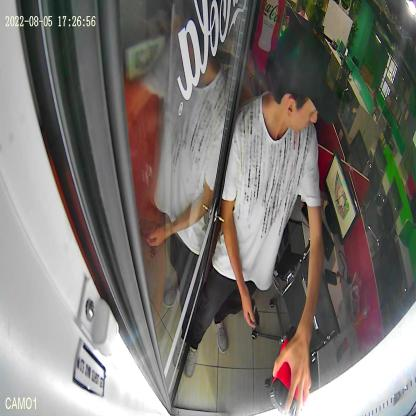red: (270, 324, 304, 416)
